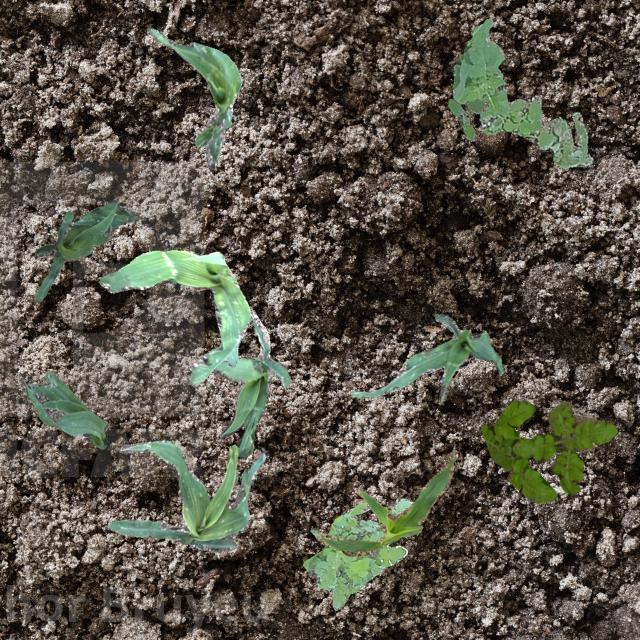crop: (98, 250, 250, 384), (108, 440, 264, 550), (309, 444, 456, 556), (349, 312, 504, 400), (147, 28, 240, 168), (212, 310, 290, 458), (34, 198, 138, 302), (20, 370, 106, 448)
weed: (452, 18, 592, 168), (481, 398, 616, 502), (302, 498, 412, 610), (446, 98, 488, 140)
